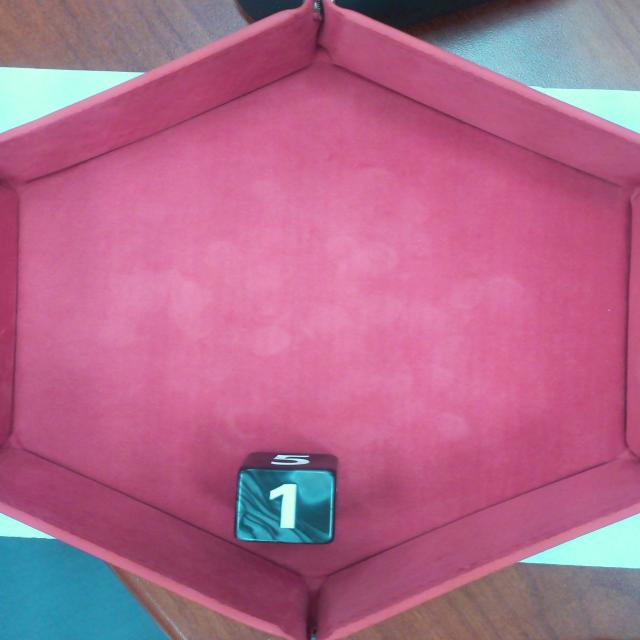dice: (239, 472, 332, 542)
